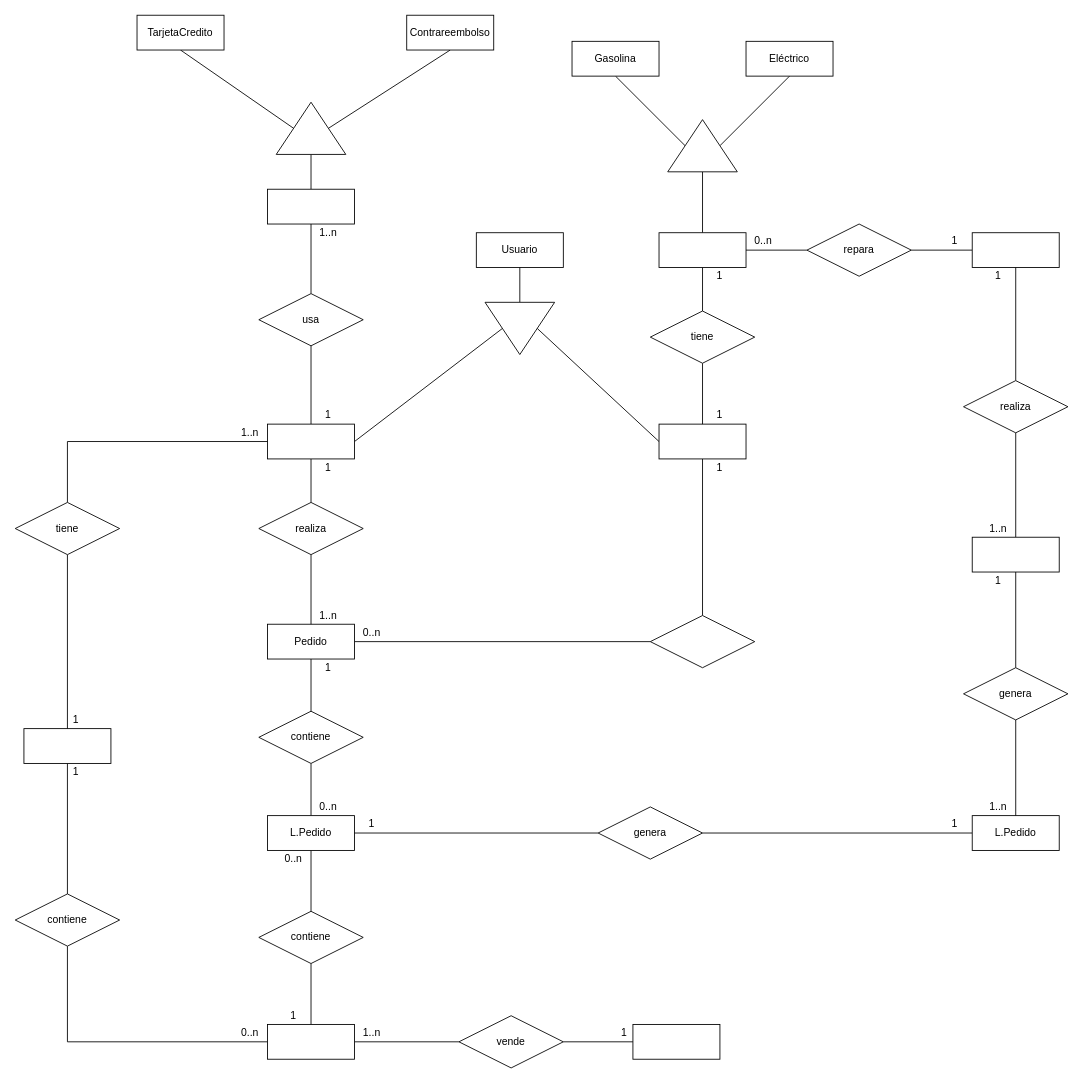
This 1083x1083 diagram has some shape labels left out. The shapes that lost their labels are listed below. From the top down, each one's centre as x and y in pixels, then its label:
At pixel 311 206: "Metodopago".
At pixel 702 250: "Vehiculo".
At pixel 1015 250: "Mecanico".
At pixel 311 441: "Cliente".
At pixel 702 441: "Repartidor".
At pixel 1015 554: "Factura".
At pixel 702 641: "reparte".
At pixel 67 745: "Oferta".
At pixel 311 1041: "Producto".
At pixel 676 1041: "Restaruante".
